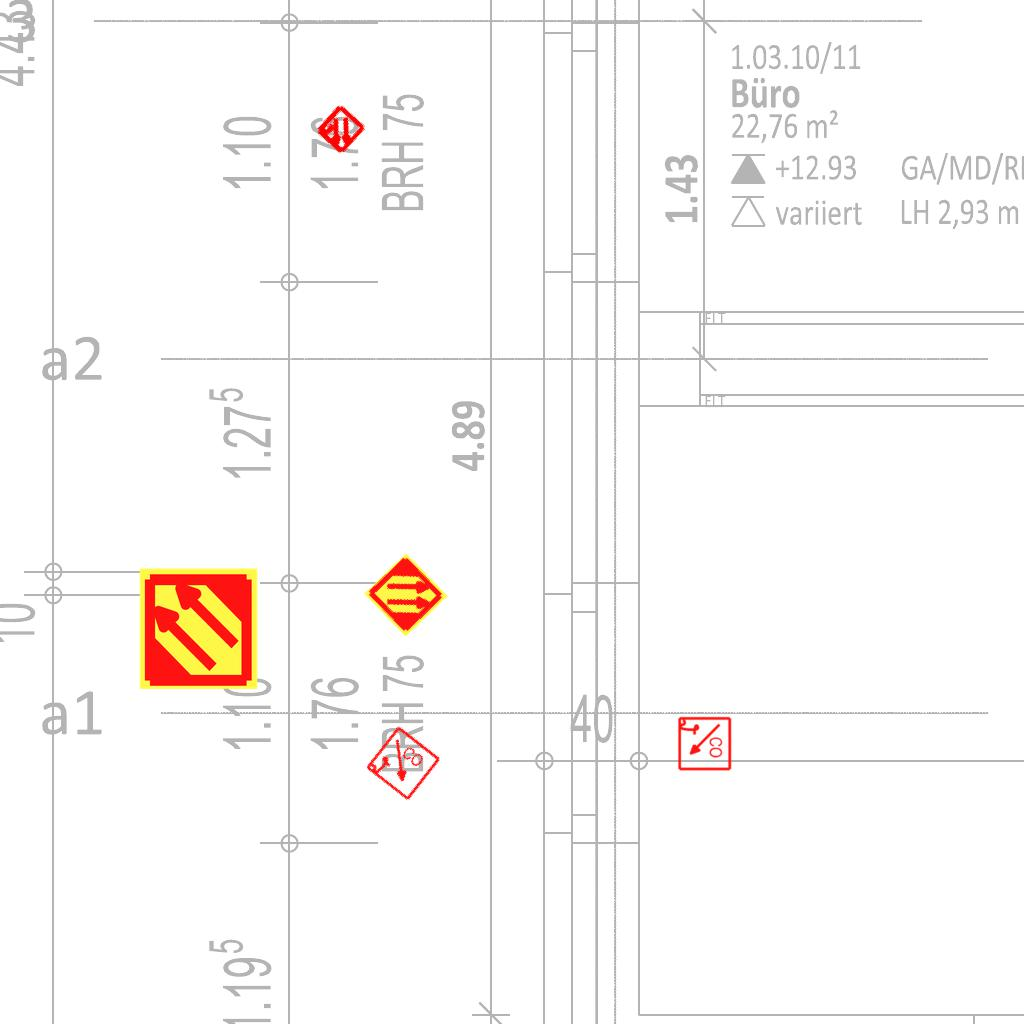ASR_Ansaugrauchmelder: (136, 566, 261, 691), (362, 551, 450, 639)
OT_Multisensormelder_(Kombination_RMO_WMD): (300, 90, 380, 170)
ROA_Rauchmelder_optisch_mit_Signalgeber_(Sockelsirene): (363, 724, 443, 804), (676, 716, 732, 772)
